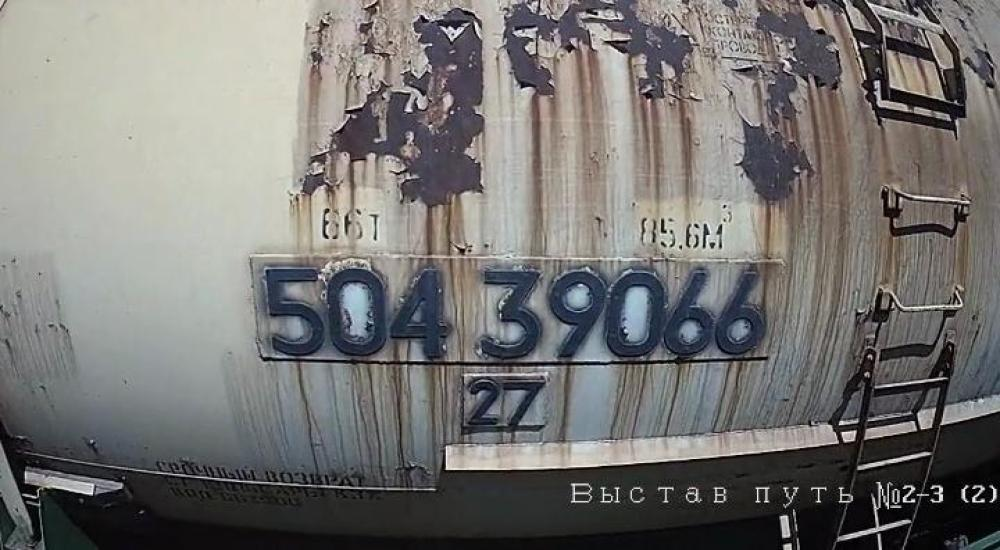Wagon-number: (254, 255, 774, 362)
